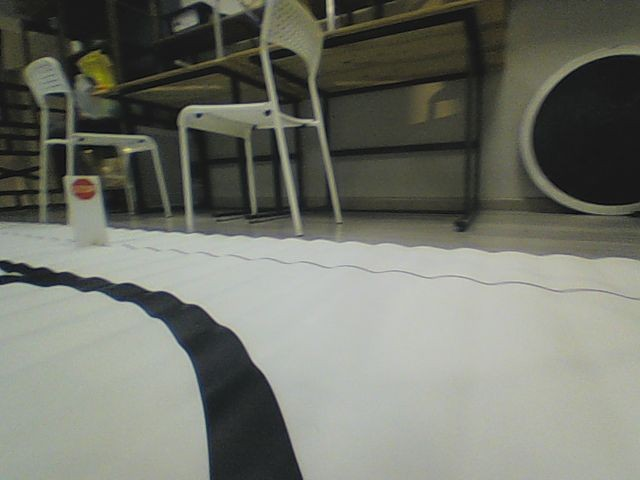Stop: (70, 176, 96, 200)
